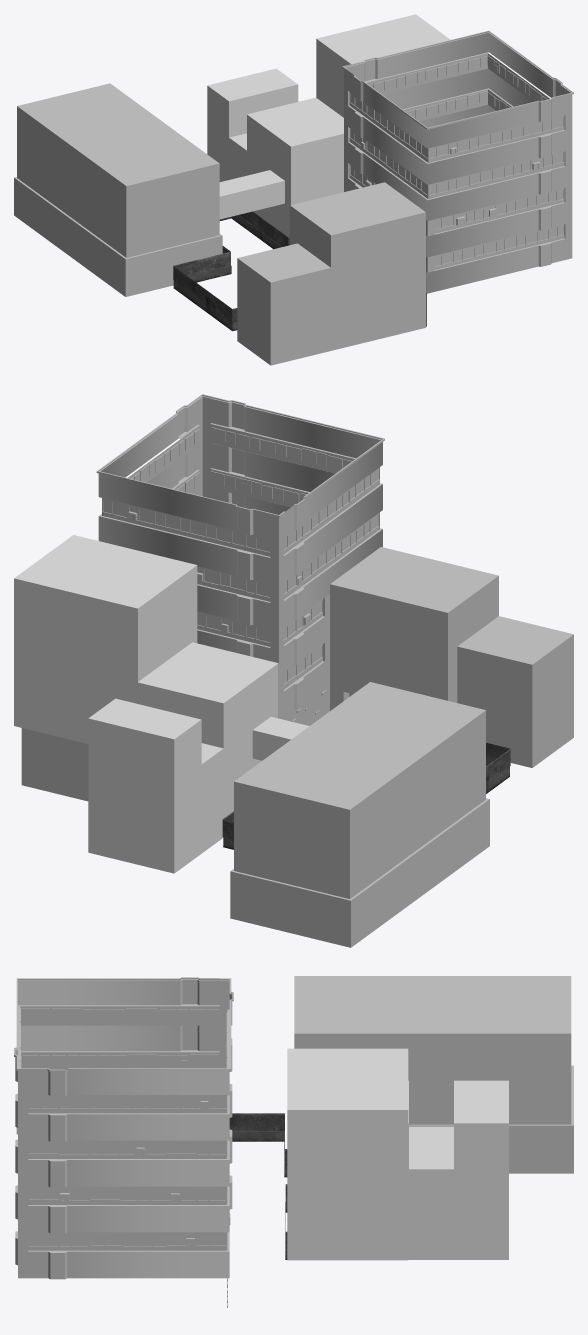
File: greyblock_1.fbx
3 renders of one model, top to bottom at view 1: azimuth 30°, elevation 25°; view 2: azimuth 150°, elevation 25°; view 3: azimuth 270°, elevation 25°, orthographic. The views are drawn at different scales.
Parts seen in each view (by area): view 1: alley_building_1, Plane001, Box004, Box002, Box007, wall, Box003; view 2: alley_building_1, Plane001, Box004, Box002, Box007, Box006, Box003, wall; view 3: alley_building_1, Plane001, Box007, Box002, wall.
Boxes of the visible parts, <box> form: alley_building_1: <box>342,30,573,326</box>; Plane001: <box>14,83,222,296</box>; Box004: <box>237,182,425,365</box>; Box002: <box>207,68,343,237</box>; Box007: <box>316,14,450,117</box>; wall: <box>173,211,289,331</box>; Box003: <box>219,170,284,219</box>; alley_building_1: <box>96,394,384,725</box>; Plane001: <box>230,682,489,947</box>; Box004: <box>330,547,573,767</box>; Box002: <box>88,642,278,873</box>; Box007: <box>14,535,197,743</box>; Box006: <box>21,728,88,801</box>; Box003: <box>252,716,309,760</box>; wall: <box>222,742,510,849</box>; alley_building_1: <box>14,977,233,1307</box>; Plane001: <box>294,976,573,1173</box>; Box007: <box>287,1048,408,1260</box>; Box002: <box>408,1080,508,1259</box>; wall: <box>229,1113,287,1259</box>.
Size of the model in its own units: 3075 by 1731 by 3451.
